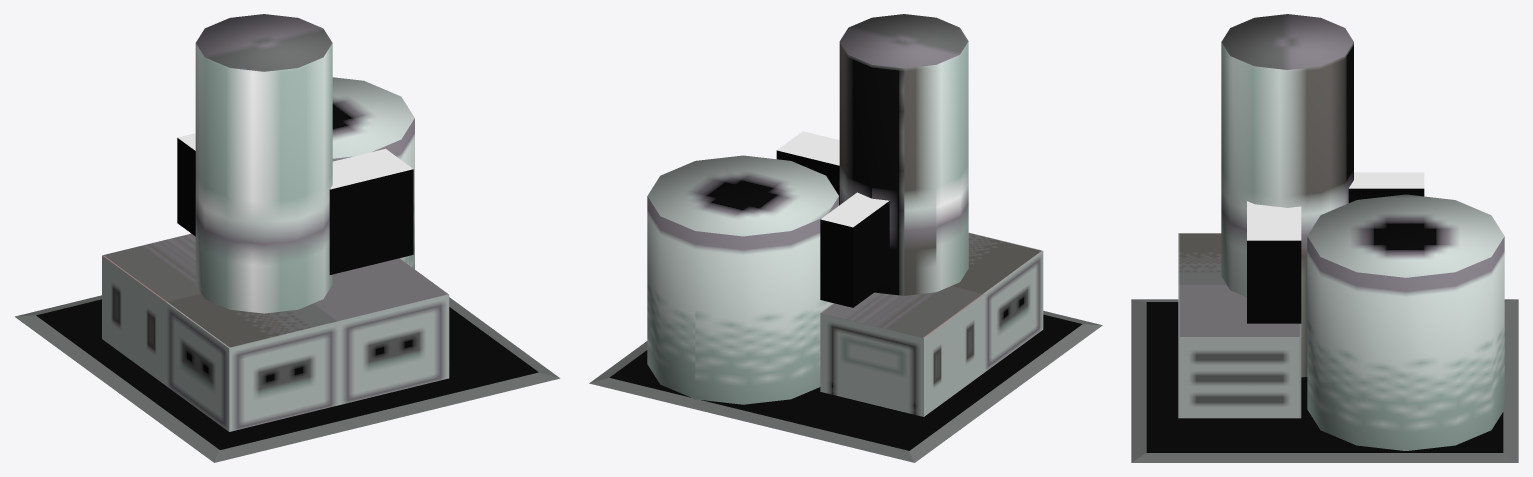
Rendered from Bld_Oil_Refinery_Large02.fbx.
3 renders of one model, left to right at view 1: azimuth 30°, elevation 25°; view 2: azimuth 150°, elevation 25°; view 3: azimuth 270°, elevation 25°, orthographic. The views are drawn at different scales.
Parts seen in each view (by area): view 1: BLD_OilRefinery_Large02; view 2: BLD_OilRefinery_Large02; view 3: BLD_OilRefinery_Large02.
Boxes of the visible parts, left/top/right/bottom form: BLD_OilRefinery_Large02: left=15, top=14, right=560, bottom=462; BLD_OilRefinery_Large02: left=589, top=14, right=1102, bottom=462; BLD_OilRefinery_Large02: left=1131, top=14, right=1518, bottom=462.
Size of the model in its own units: 789 by 789 by 721.
